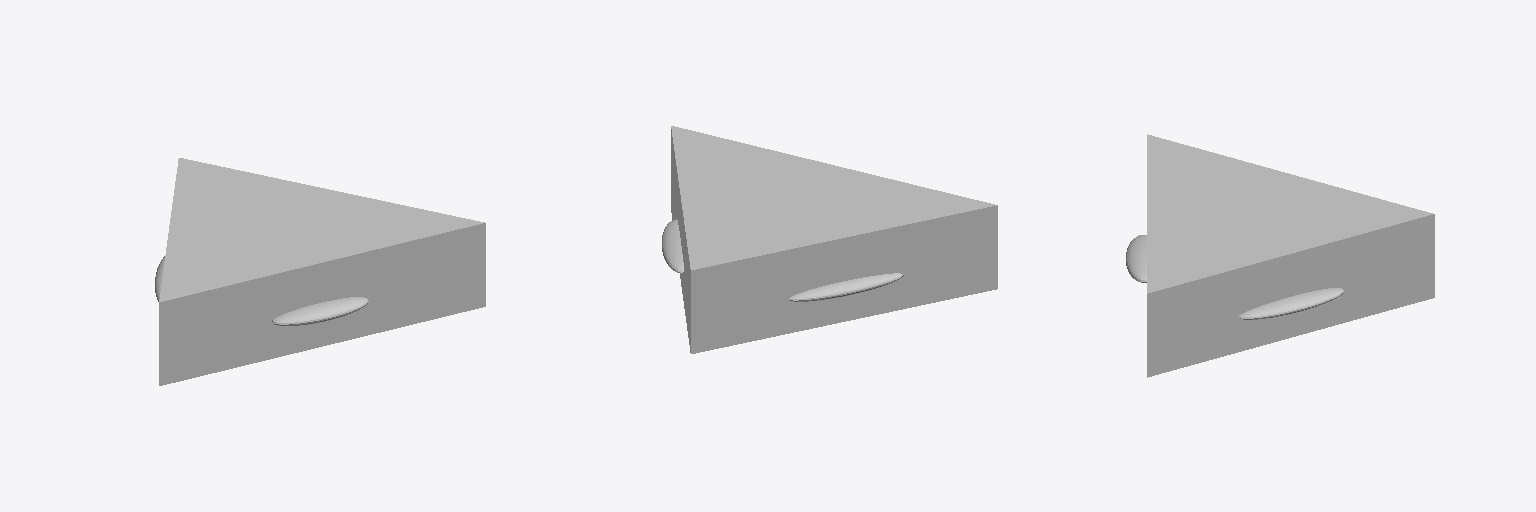
File: SalleIlluminazi.obj
The picture shows the model from 3 angles: view 1: azimuth 30°, elevation 25°; view 2: azimuth 150°, elevation 25°; view 3: azimuth 270°, elevation 25°; orthographic projection.
Bounding box in the file's own units: 9.37 × 2.3 × 7.67.